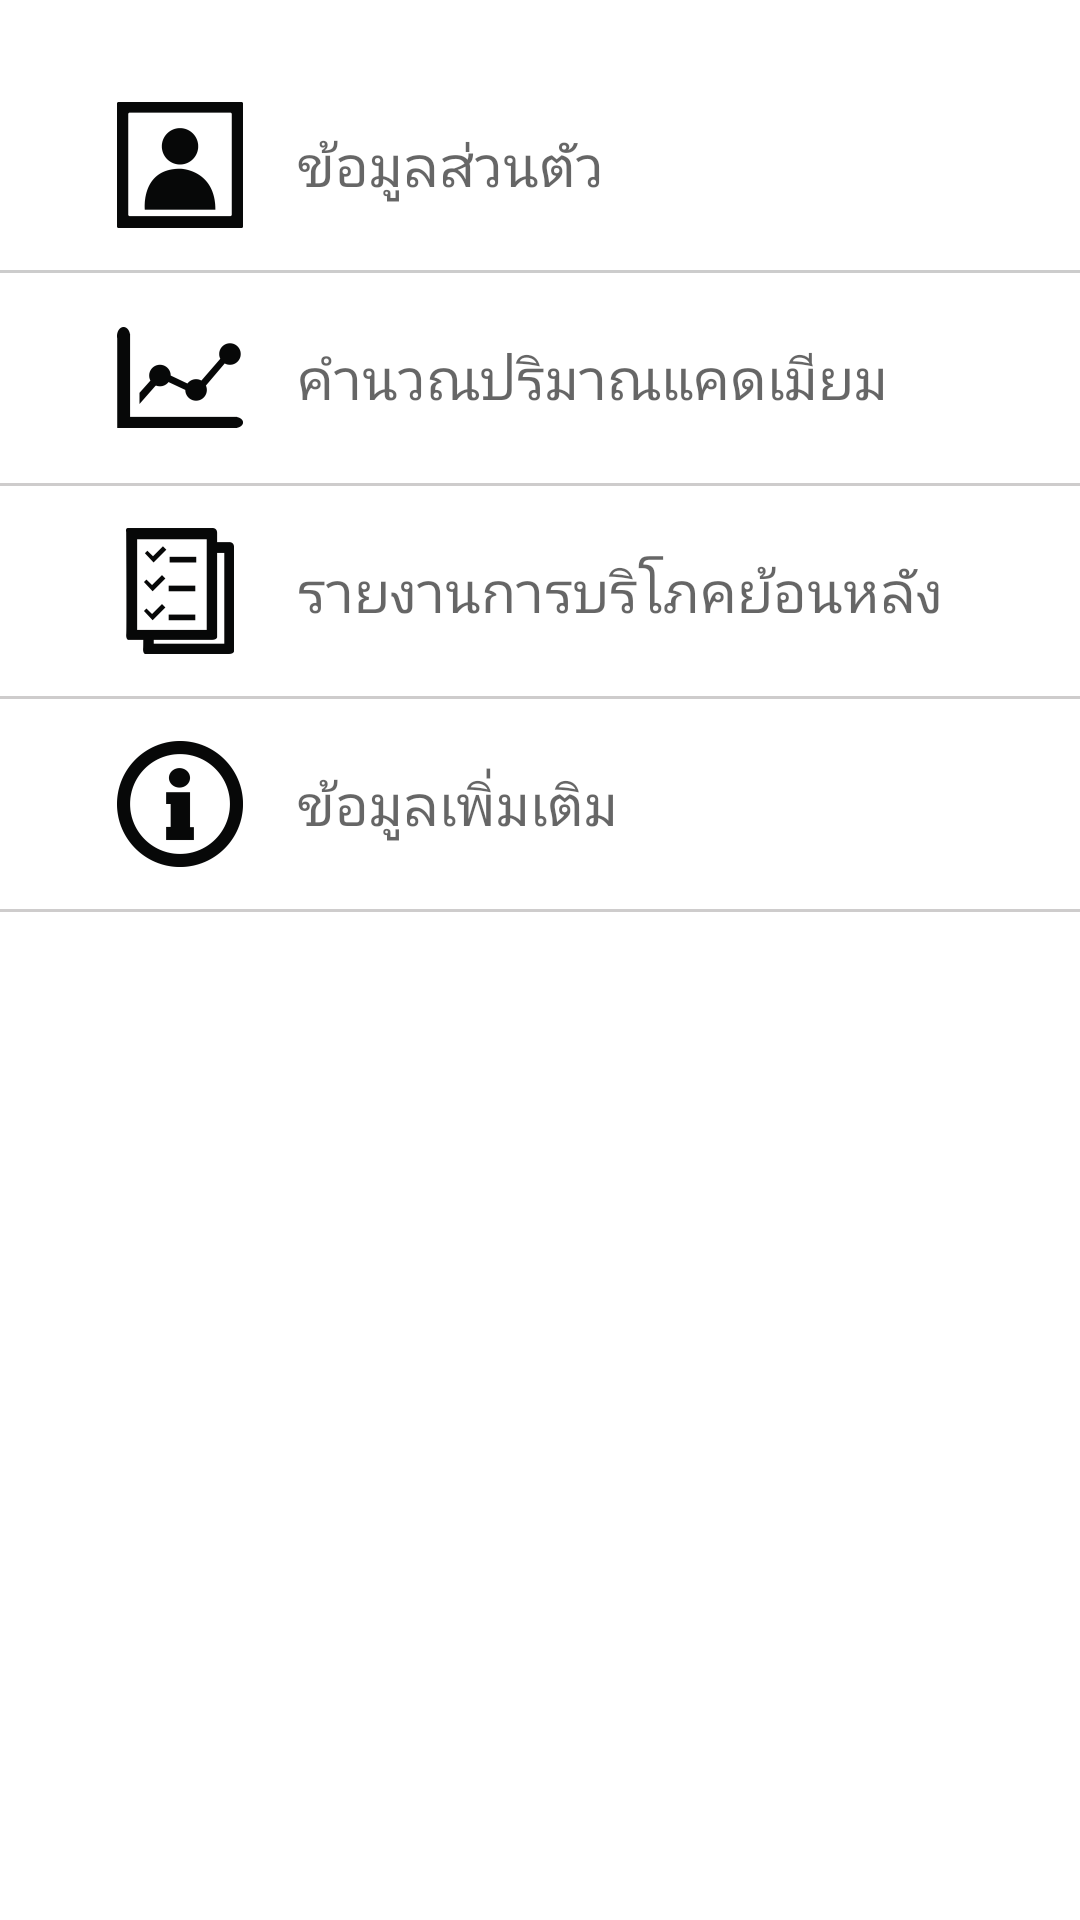

Where icons sit on this 1080×1920 app screen, as detection(x1, y1, x2, y2):
pic infor: detection(117, 741, 243, 867)
pic infouser: detection(117, 102, 243, 228)
pic report: detection(126, 528, 234, 654)
